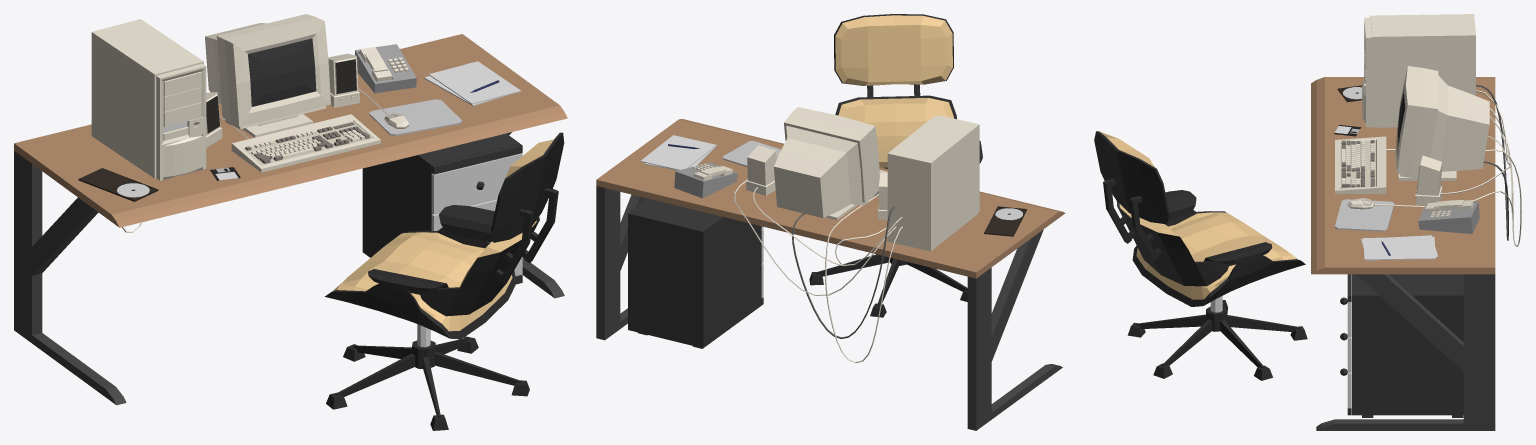
3 renders of one model, left to right at view 1: azimuth 30°, elevation 25°; view 2: azimuth 150°, elevation 25°; view 3: azimuth 270°, elevation 25°, orthographic. The views are drawn at different scales.
Parts seen in each view (by area): view 1: Office_desk, Cube.000, Computer_case, Computer_monitor.001, Drawers, Keyboard, Paper2, Mousepad, Phone_stand, SpeakerL, CD_case, SpeakerR (+1 smaller); view 2: Office_desk, Drawers, Cube.000, Computer_case, Computer_monitor.001, Paper2, SpeakerL, Phone_stand, CD_case, Monitor_cable, KeyboardCable, Mousepad (+2 smaller); view 3: Office_desk, Cube.000, Drawers, Computer_case, Computer_monitor.001, Keyboard, Paper2, Mousepad, Phone_stand, SpeakerL, Monitor_cable, KeyboardCable (+1 smaller).
Part boxes in pixels (x1,y1,x2,y2): Office_desk: (14,34,567,405); Cube.000: (324,132,564,430); Computer_case: (91,19,206,180); Computer_monitor.001: (205,14,330,137); Drawers: (362,133,522,284); Keyboard: (231,114,380,172); Paper2: (428,61,521,104); Mousepad: (369,99,462,135); Phone_stand: (355,44,416,93); SpeakerL: (328,53,359,107); CD_case: (78,168,158,201); SpeakerR: (206,92,222,147); Office_desk: (596,119,1065,430); Drawers: (628,198,763,348); Cube.000: (809,14,982,317); Computer_case: (887,115,979,251); Computer_monitor.001: (774,107,879,220); Paper2: (640,135,716,170); SpeakerL: (746,145,776,195); Phone_stand: (674,162,737,198); CD_case: (984,206,1026,236); Monitor_cable: (792,206,894,338); KeyboardCable: (825,194,902,362); Mousepad: (722,141,781,166); Office_desk: (1311,77,1495,430); Cube.000: (1094,131,1307,380); Drawers: (1340,274,1463,417); Computer_case: (1362,14,1475,127); Computer_monitor.001: (1395,66,1489,180); Keyboard: (1335,136,1386,193); Paper2: (1363,237,1435,259); Mousepad: (1335,199,1394,231); Phone_stand: (1418,201,1479,233); SpeakerL: (1415,155,1442,205); Monitor_cable: (1476,84,1508,240); KeyboardCable: (1386,108,1521,246).
Size of the model in its own units: 188 by 116 by 178.
2 materials, 2 textured.
